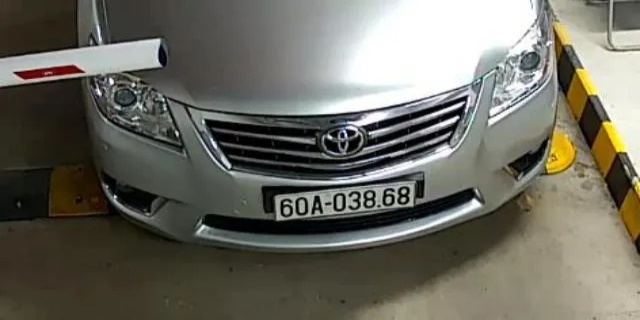bien_so: (276, 185, 415, 218)
